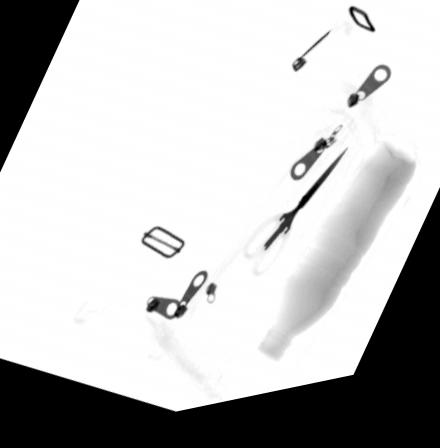Scissors: (243, 162, 348, 286)
